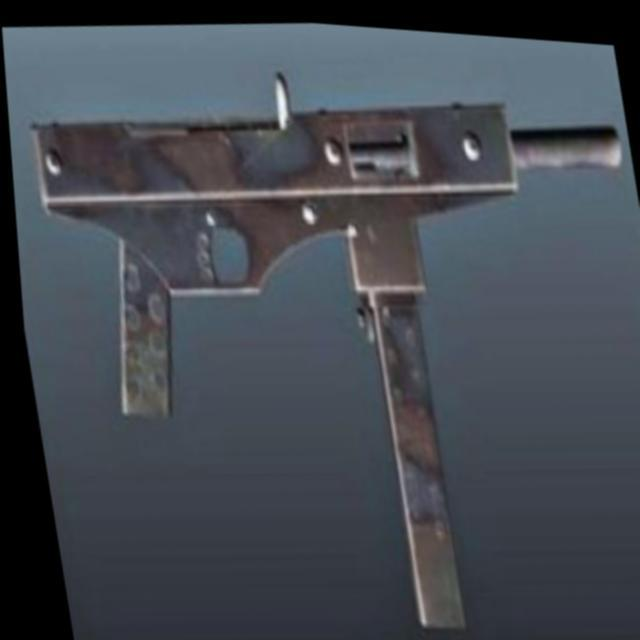weapon: (13, 23, 640, 640)
